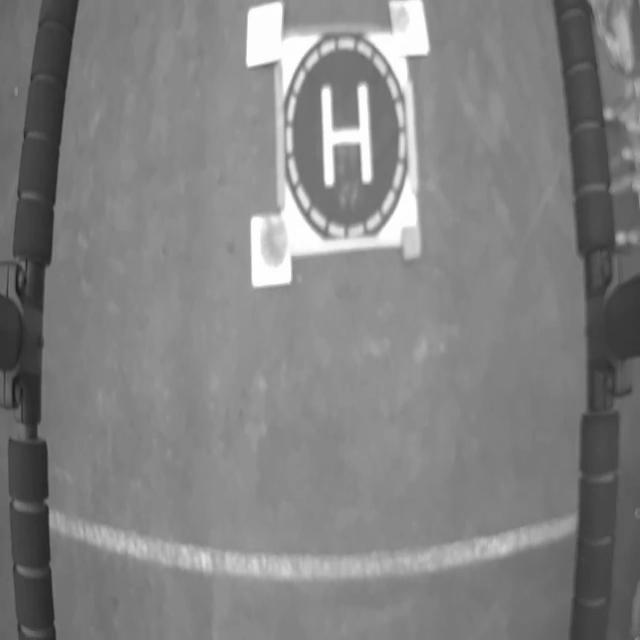Helipad: (320, 83, 373, 189)
